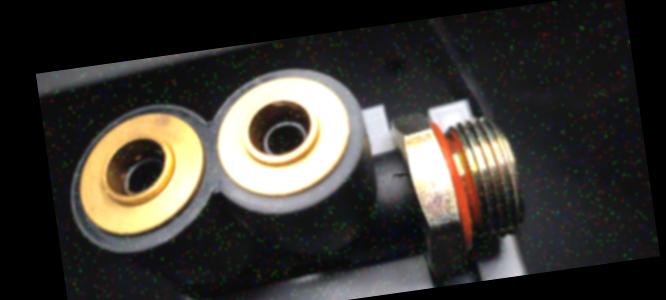craze: (390, 167, 410, 180)
joint line: (376, 177, 387, 186)
